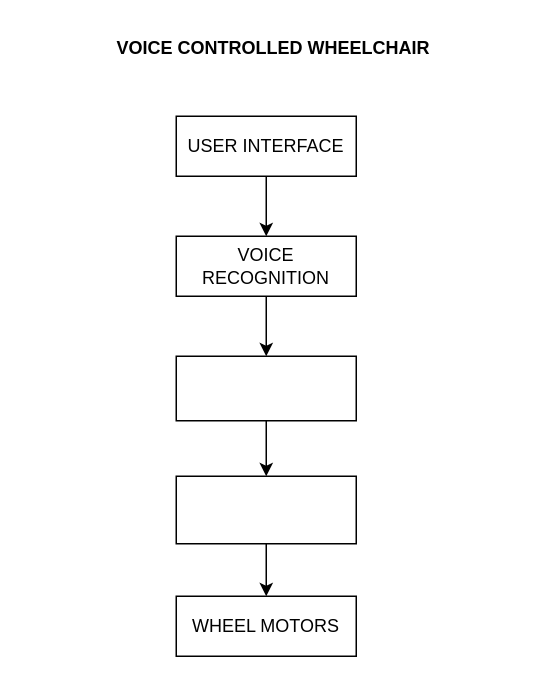
Image size: 546x683. Some labels were removed from this diagram. The shapes that lost their labels are listed below. From the top down, each one's box as (x1, y1, x2, y2) in pixels, then its label:
(175, 355, 356, 421): MOBILITY CONTROL
(175, 475, 356, 544): ARUDINO CONTROLLER
